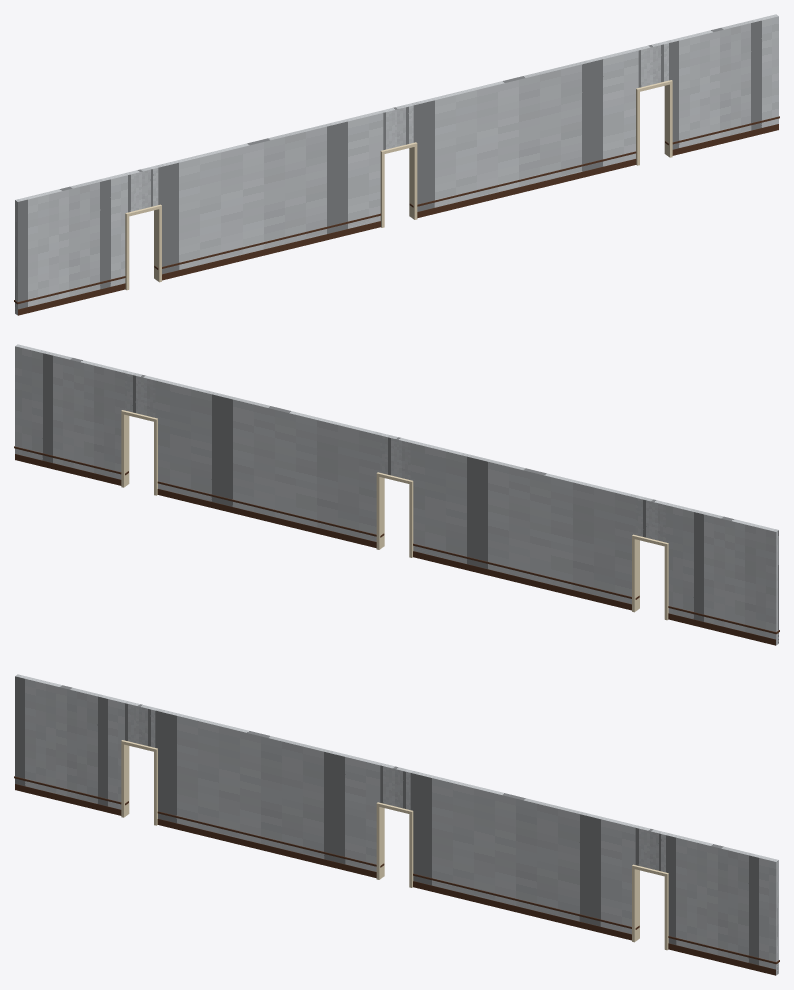
Rendered from high_up_mid.glb.
3 renders of one model, top to bottom at view 1: azimuth 30°, elevation 25°; view 2: azimuth 150°, elevation 25°; view 3: azimuth 330°, elevation 25°, orthographic.
Parts seen in each view (by area): view 1: Box5, Box3, Box1, Box7, Box6, Box4, Box9, Box10, Box11, Box23, Box2, Box8 (+5 smaller); view 2: Box5, Box3, Box1, Box7, Box6, Box4, Box9, Box10, Box11, Box23, Box2, Box8 (+5 smaller); view 3: Box3, Box5, Box7, Box1, Box4, Box6, Box11, Box10, Box9, Box25, Box8, Box2 (+5 smaller).
Boxes of the visible parts, x1,y1,x2,y2 form: Box5: [411, 48, 638, 211]; Box3: [156, 111, 383, 274]; Box1: [15, 173, 127, 315]; Box7: [666, 14, 778, 149]; Box6: [417, 159, 636, 218]; Box4: [162, 221, 380, 280]; Box9: [125, 165, 158, 212]; Box10: [381, 103, 413, 149]; Box11: [636, 41, 668, 87]; Box23: [162, 216, 380, 273]; Box2: [18, 283, 125, 315]; Box8: [672, 124, 778, 155]; Box5: [155, 378, 382, 541]; Box3: [410, 441, 637, 604]; Box1: [666, 503, 778, 645]; Box7: [15, 344, 127, 479]; Box6: [157, 489, 376, 548]; Box4: [413, 551, 631, 610]; Box9: [635, 495, 668, 542]; Box10: [380, 433, 412, 479]; Box11: [125, 371, 157, 417]; Box23: [413, 546, 631, 603]; Box2: [668, 613, 775, 645]; Box8: [15, 454, 121, 485]; Box3: [155, 708, 382, 871]; Box5: [410, 771, 637, 934]; Box7: [666, 833, 778, 975]; Box1: [15, 674, 127, 809]; Box4: [157, 819, 376, 878]; Box6: [413, 881, 631, 940]; Box11: [635, 825, 668, 872]; Box10: [380, 763, 412, 809]; Box9: [125, 701, 157, 747]; Box25: [413, 876, 631, 933]; Box8: [668, 943, 775, 975]; Box2: [15, 784, 121, 815].
Bounding box in the file's own units: 23.89 × 3.4 × 0.3.
3 materials, 1 textured.
